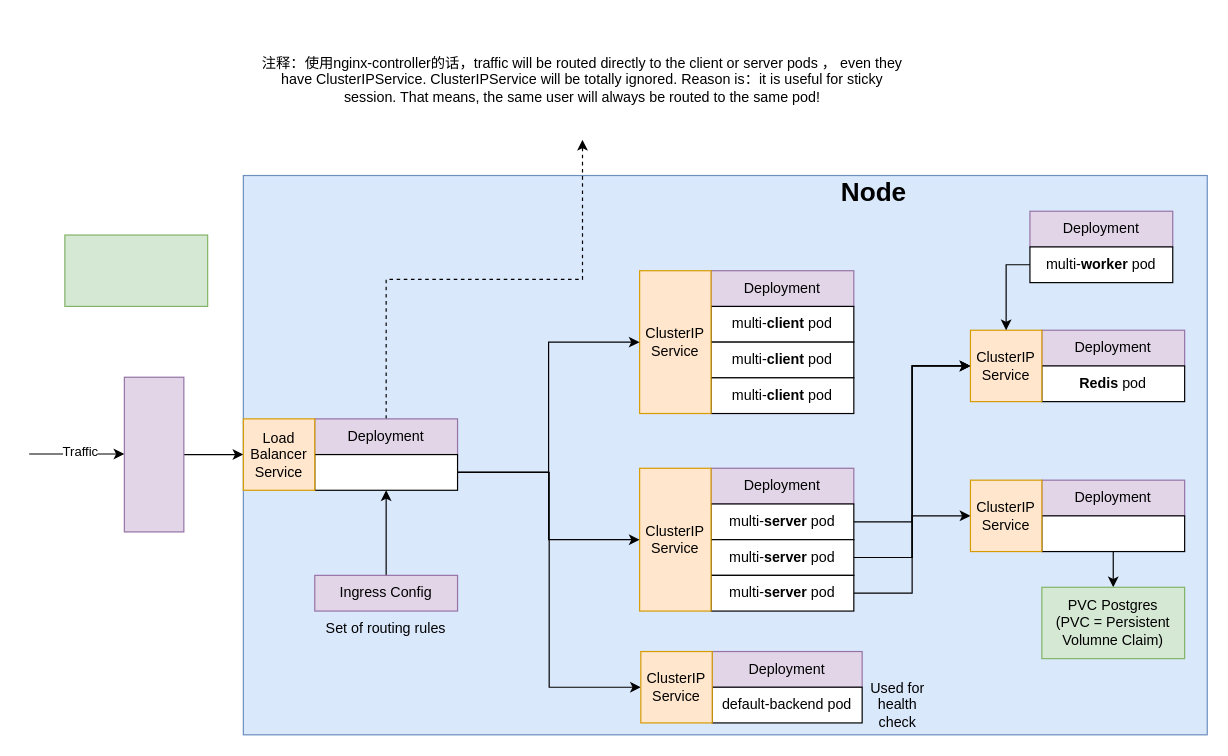
Some shapes in this 1228 by 756 pixel diagram are drawn without their labels. Each missing label, with the centre of its shape:
"Google Cloud Load Balancer" goes at point (153, 454).
"Ingress-Nginx on Google Cloud" goes at point (136, 270).
"nginx-controller/nginx pod" goes at point (386, 471).
"Postgres pod" goes at point (1113, 533).
